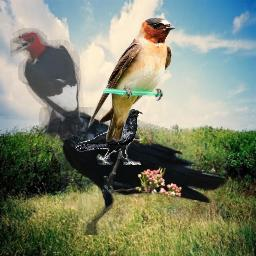Crow: (35, 107, 227, 235), (75, 109, 145, 165)
Swallow: (88, 17, 176, 142)
Woodpecker: (10, 27, 89, 140)
